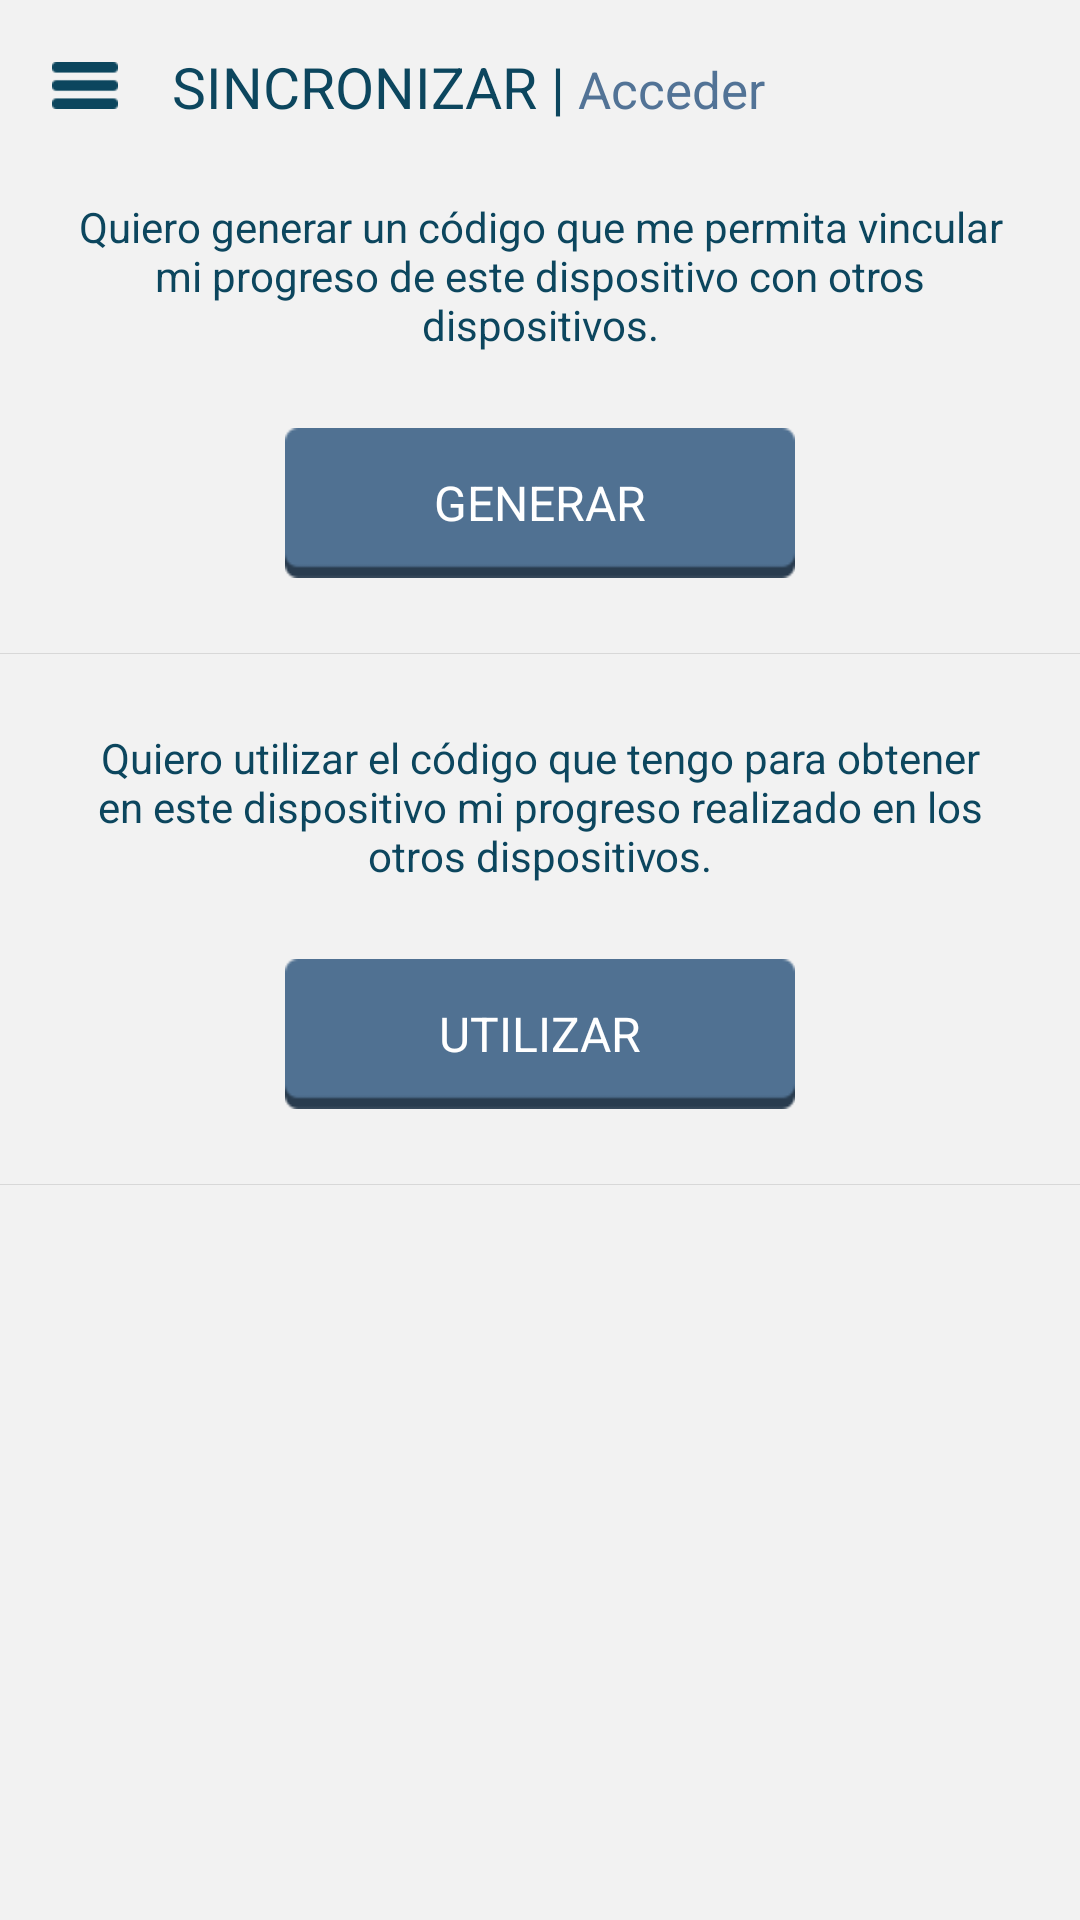

Icons on this 1080 x 1920 Android screen, each with the point to tap as point (x, y):
hamburguesa: point (85, 85)
